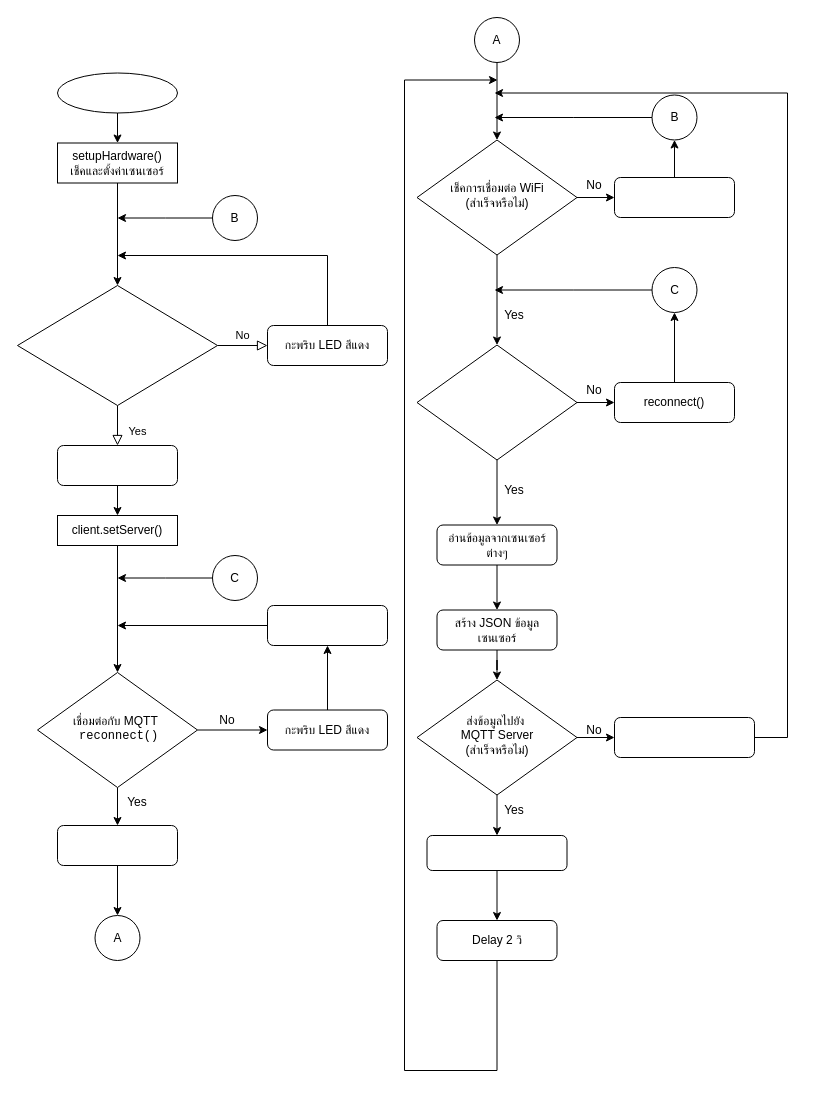
The diagram is 813 pixels wide and 1096 high, and some of its shapes have lost their labels. The box of each missing label's shape, as (x1, y1, x2, y2) in pixels:
Delay 5 วิ: (266, 604, 388, 646)
setupWifi(): (614, 176, 734, 218)
setupWifi() โดยใช้ ssid และ password: (16, 284, 218, 406)
start: (56, 72, 178, 113)
กะพริบ LED สีขาวเพื่อแสดงการส่งข้อมูล: (426, 834, 567, 870)
เช็คการเชื่อมต่อ MQTT (สำเร็จหรือไม่): (416, 344, 577, 460)
เปลี่ยนสี LED เป็นสีน้ำเงิน: (56, 444, 178, 486)
เปลี่ยนสี LED เป็นสีเหลือง: (56, 824, 178, 866)
เปลี่ยนสี LED เป็นสีแดง: (614, 716, 754, 758)
